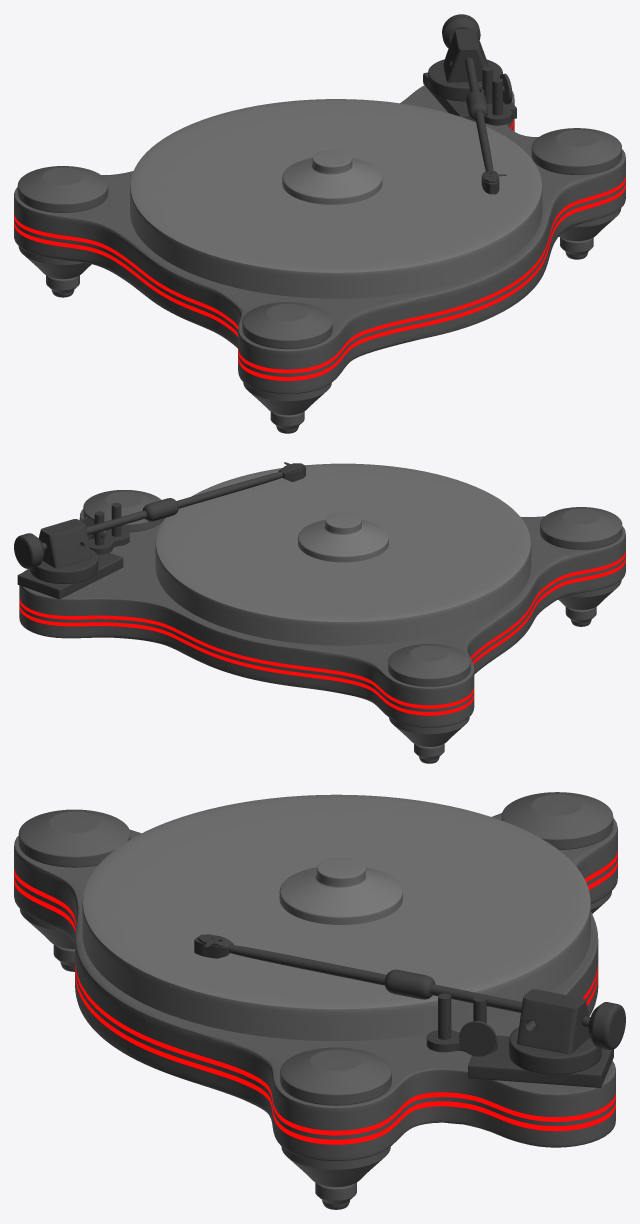
The model's file is turntable.glb.
The picture shows the model from 3 angles, top to bottom: view 1: azimuth 30°, elevation 25°; view 2: azimuth 150°, elevation 25°; view 3: azimuth 270°, elevation 25°; orthographic projection. The views are drawn at different scales.
Parts seen in each view (by area): view 1: Turntable_Disc, Stand, Holder_top_left, Stripes, Tonearm_Holder, Stand_top_left, Cap, Cartridge; view 2: Turntable_Disc, Stand, Holder_top_left, Tonearm_Holder, Stripes, Cap, Stand_top_left, Cartridge; view 3: Turntable_Disc, Stand, Holder_top_left, Tonearm_Holder, Stripes, Cap, Cartridge, Stand_top_left.
Boxes of the visible parts, x1=… form: Turntable_Disc: x1=130, y1=99, x2=542, y2=298; Stand: x1=14, y1=85, x2=625, y2=394; Holder_top_left: x1=17, y1=128, x2=621, y2=348; Stripes: x1=14, y1=119, x2=625, y2=380; Tonearm_Holder: x1=423, y1=14, x2=516, y2=125; Stand_top_left: x1=18, y1=208, x2=621, y2=433; Cap: x1=282, y1=150, x2=382, y2=204; Cartridge: x1=465, y1=58, x2=506, y2=196; Turntable_Disc: x1=155, y1=463, x2=531, y2=645; Stand: x1=19, y1=509, x2=625, y2=727; Holder_top_left: x1=83, y1=490, x2=622, y2=686; Tonearm_Holder: x1=14, y1=502, x2=129, y2=599; Stripes: x1=19, y1=551, x2=625, y2=715; Cap: x1=298, y1=512, x2=388, y2=562; Stand_top_left: x1=389, y1=580, x2=621, y2=763; Cartridge: x1=86, y1=462, x2=305, y2=534; Turntable_Disc: x1=82, y1=794, x2=590, y2=1041; Stand: x1=14, y1=813, x2=617, y2=1161; Holder_top_left: x1=18, y1=792, x2=613, y2=1105; Tonearm_Holder: x1=426, y1=989, x2=625, y2=1087; Stripes: x1=14, y1=850, x2=617, y2=1144; Cap: x1=279, y1=857, x2=402, y2=924; Cartridge: x1=194, y1=934, x2=522, y2=1012; Stand_top_left: x1=19, y1=891, x2=611, y2=1209.
Bounding box in the file's own units: 2.98 × 0.8949 × 2.51.
